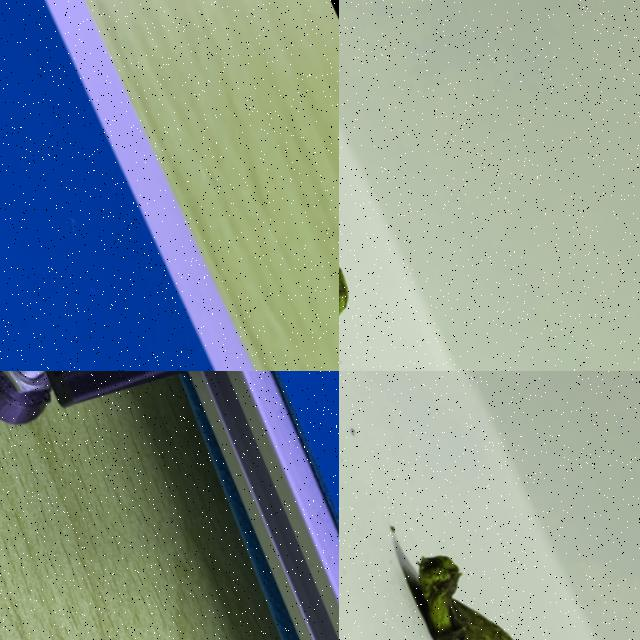Flat_cocoabeans: (339, 404, 613, 639), (0, 0, 93, 322), (339, 0, 412, 370)
